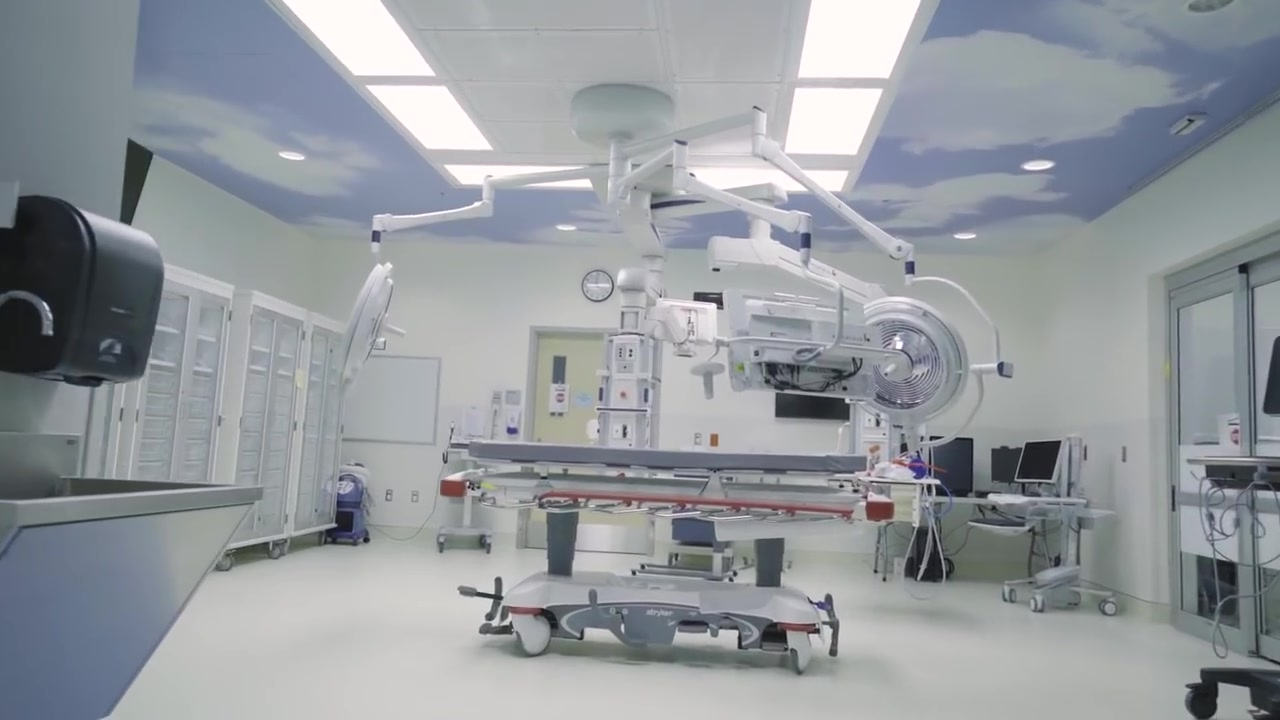bedside_monitor: (720, 287, 877, 402), (900, 436, 974, 493), (775, 392, 852, 422)
cabinet: (117, 276, 236, 493), (224, 292, 306, 547), (295, 316, 344, 539)
computer: (1014, 441, 1063, 484), (990, 447, 1023, 483)
dispenser: (1, 195, 162, 392), (507, 410, 522, 438)
faucet: (1, 280, 58, 342)
keyboard: (989, 492, 1024, 503), (974, 490, 1002, 498)
mouse: (1024, 490, 1043, 498)
operating_bed: (441, 441, 895, 670)
sink: (1, 472, 262, 543)
surgical_light: (852, 296, 969, 427), (329, 261, 408, 393)
utility_cart: (438, 441, 498, 555)
